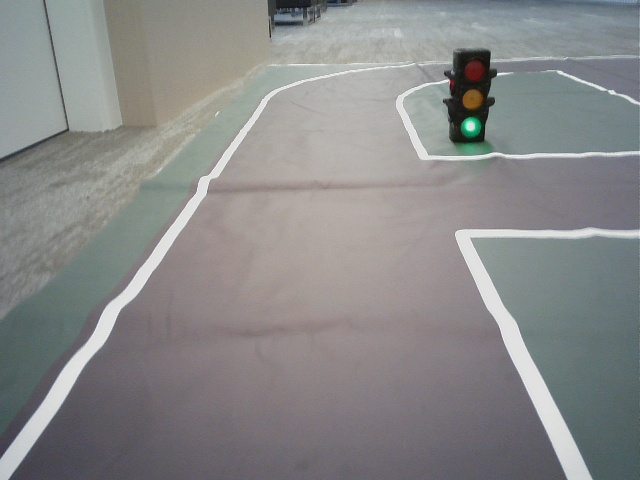green: (456, 53, 488, 137)
